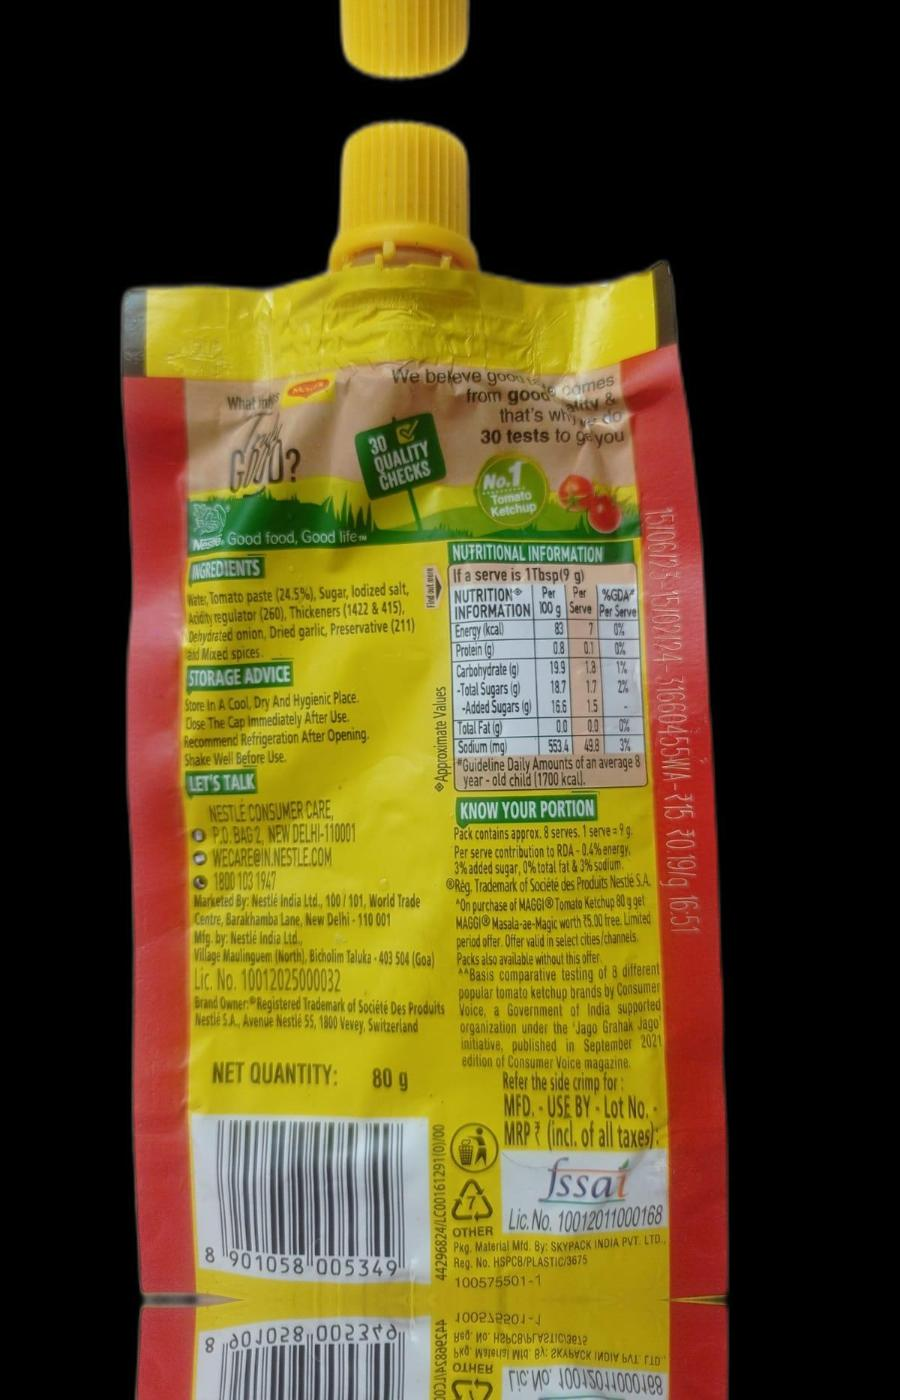MAGGI Pichkoo - Rich Tomato Ketchup 80 g Pouch: (113, 112, 731, 1300)
